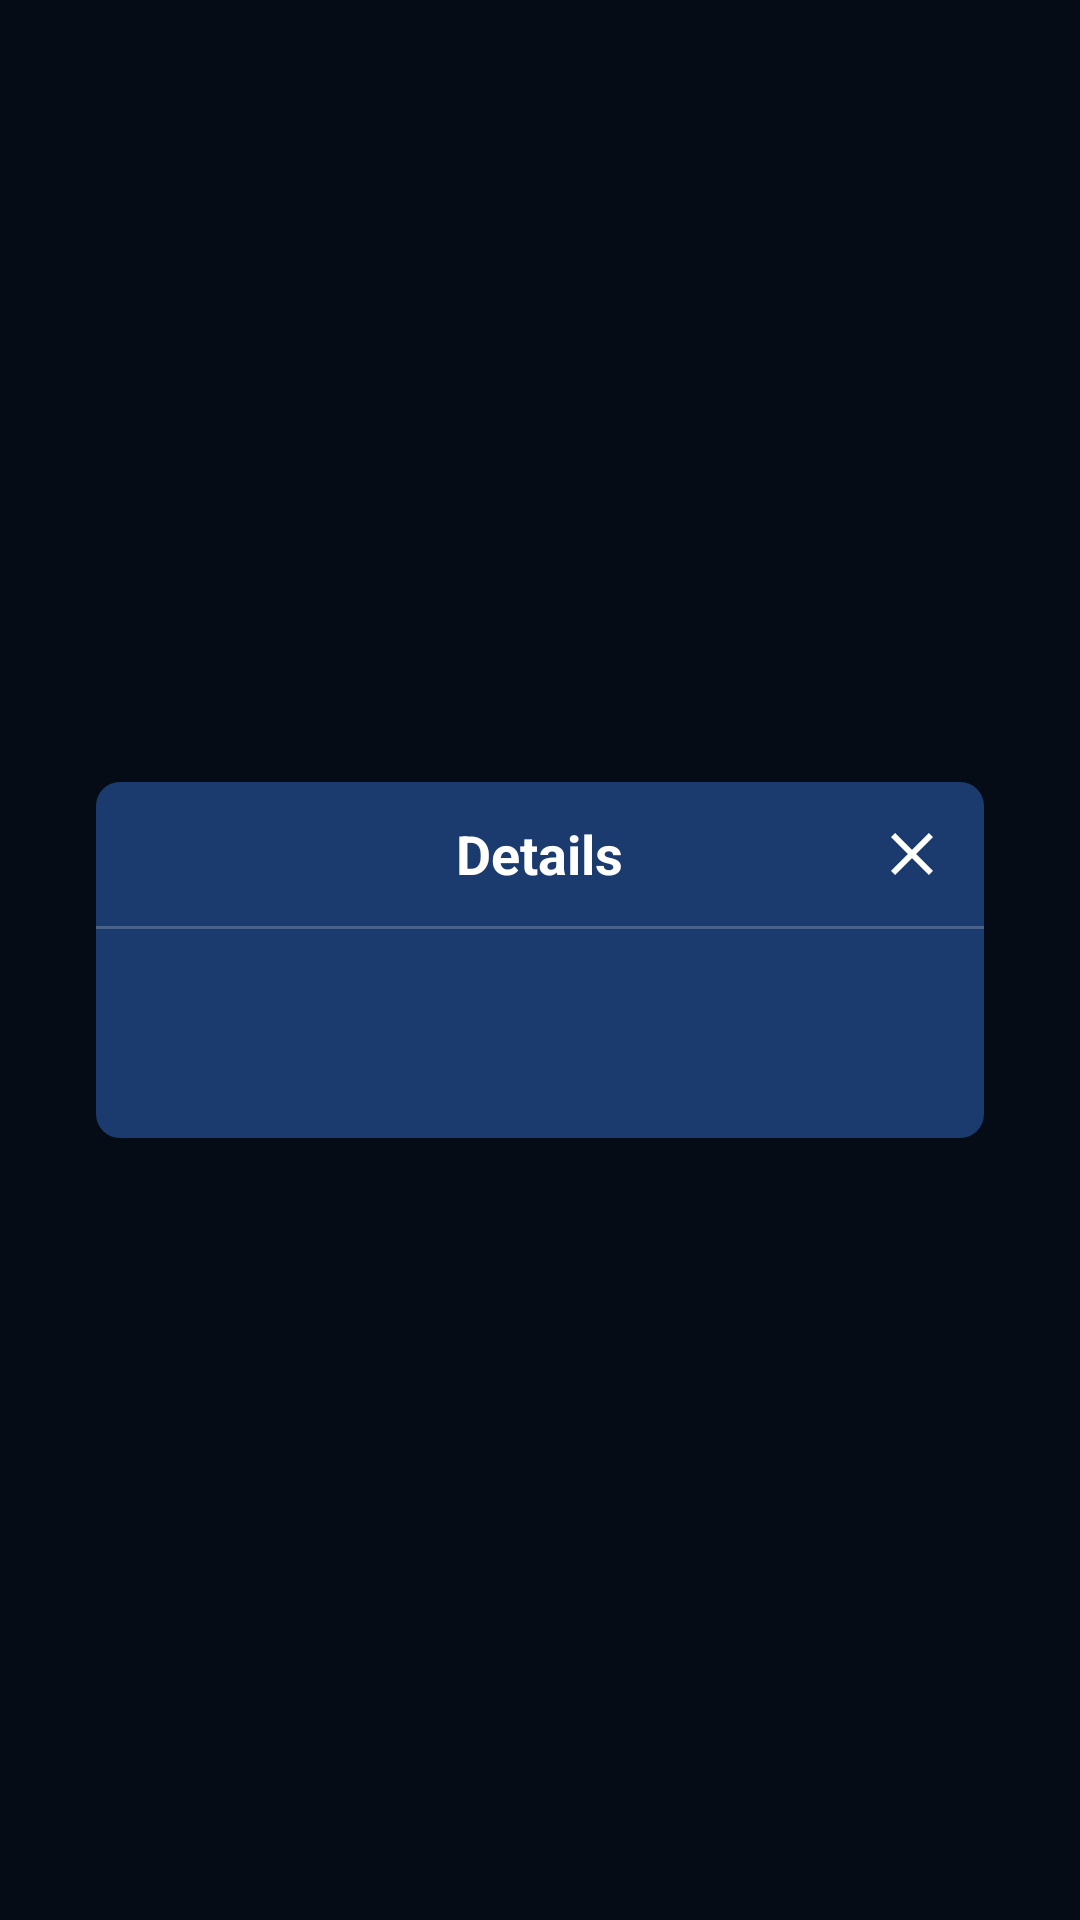

Icon click points for this 1080 × 1920 phone screenshot, format [x,y]:
Close: [912,854]
